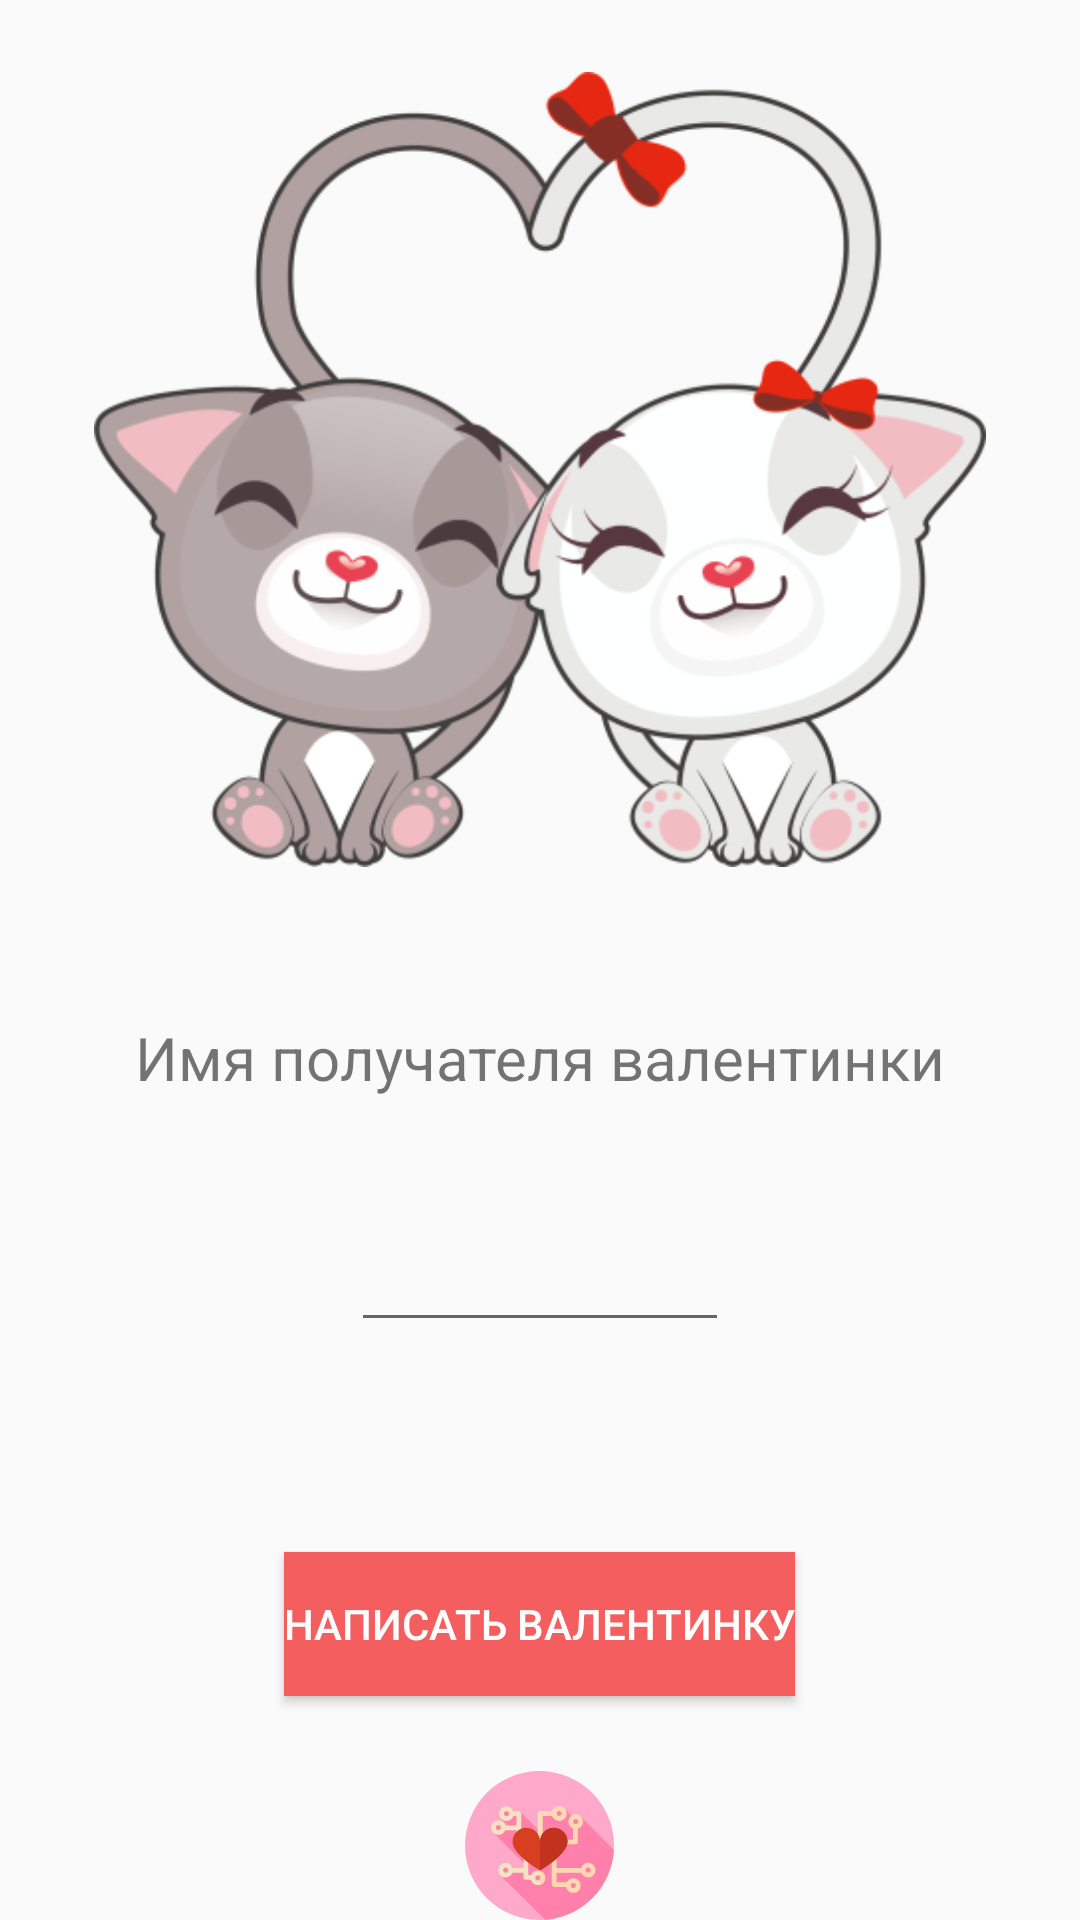

Point at icon controls on the screen. Image size 1080px×1920px, points as (x,y).
heart: (539,1845)
